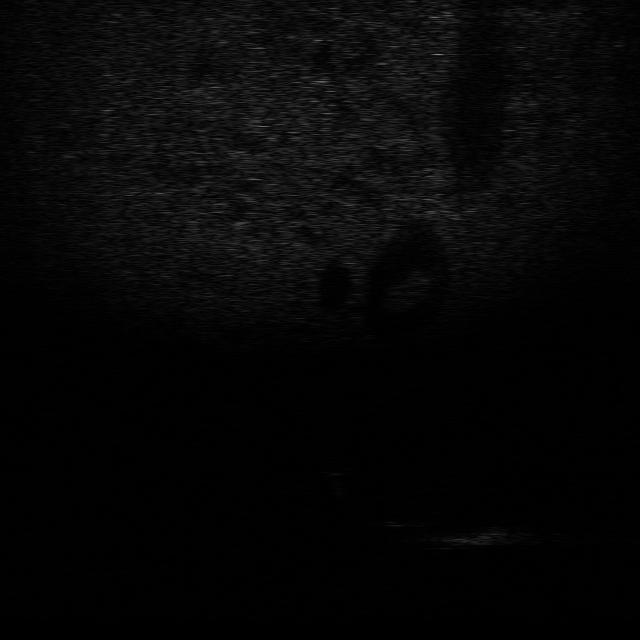ball: (314, 452, 358, 481)
metal bucket: (416, 518, 540, 551)
tyre: (370, 504, 448, 530)
